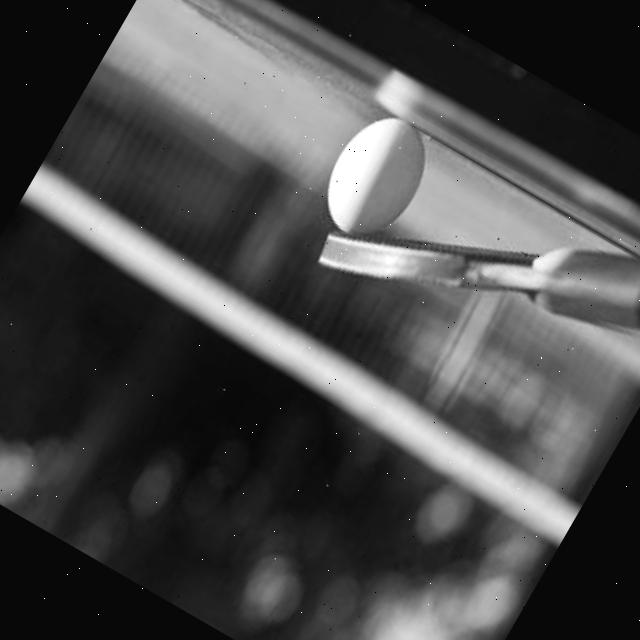ping-pong-ball: (304, 96, 450, 257)
